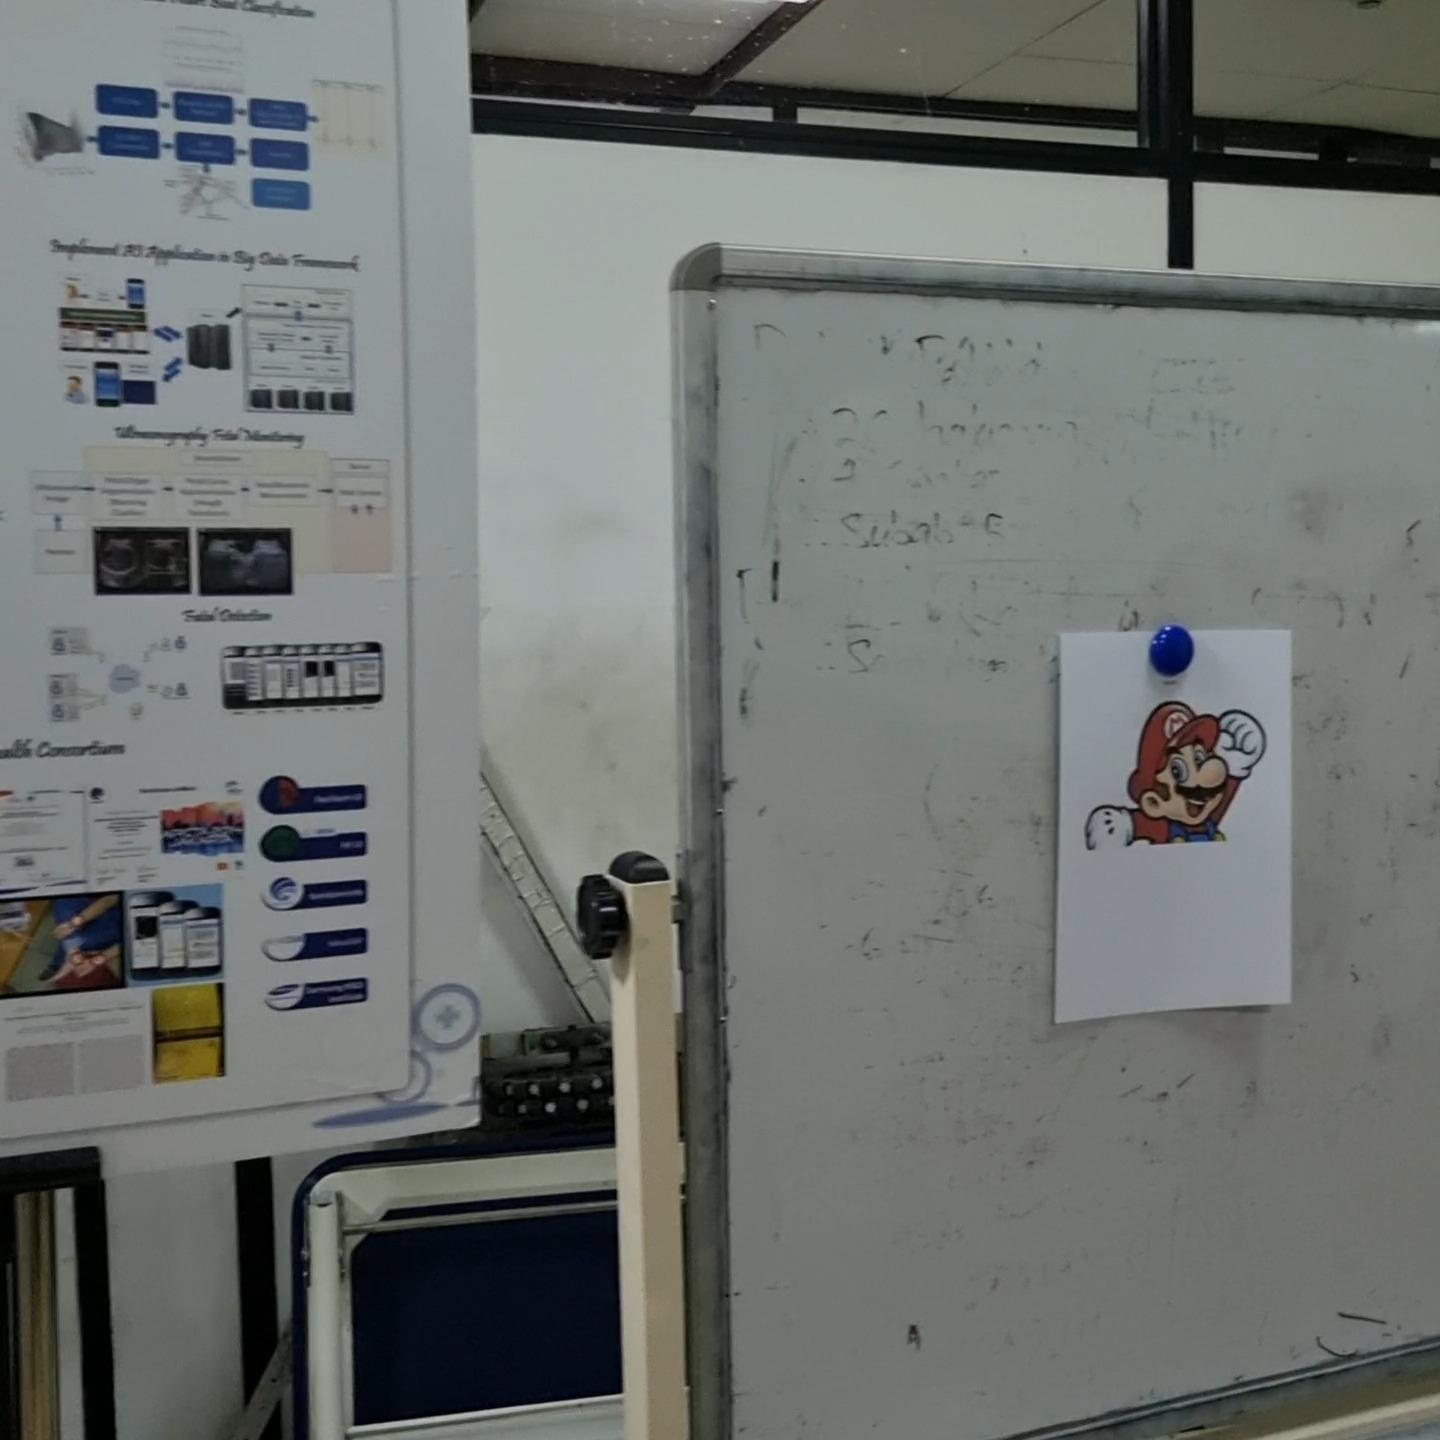mario: (1077, 691, 1273, 864)
